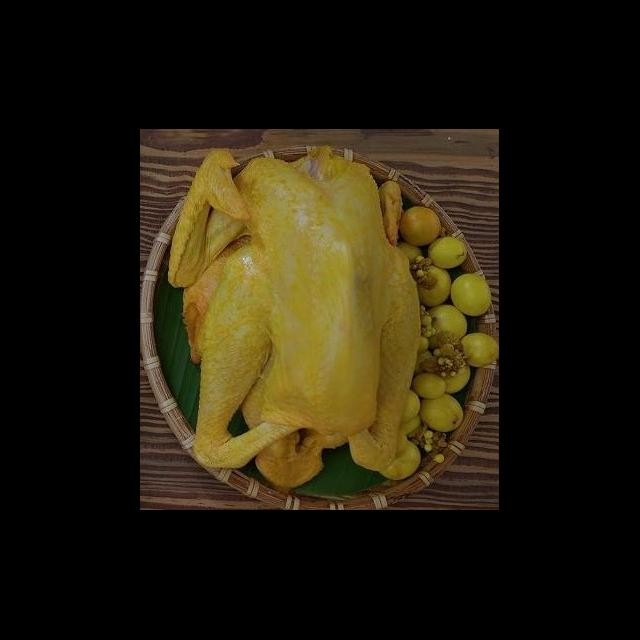thit ga: (162, 142, 424, 494)
trung: (448, 270, 494, 322), (396, 203, 444, 250), (424, 302, 471, 348), (417, 392, 468, 434), (428, 350, 474, 396), (412, 264, 452, 310), (424, 234, 470, 272), (456, 330, 499, 370), (410, 370, 450, 402)
